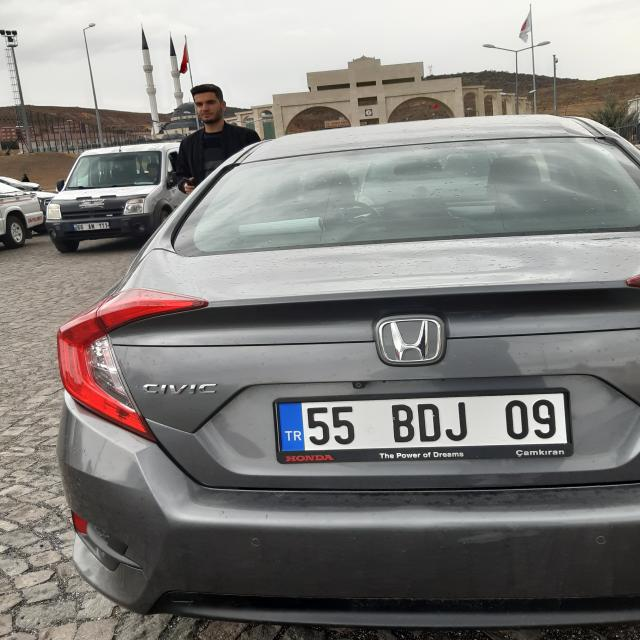license_plate: (275, 390, 569, 453)
